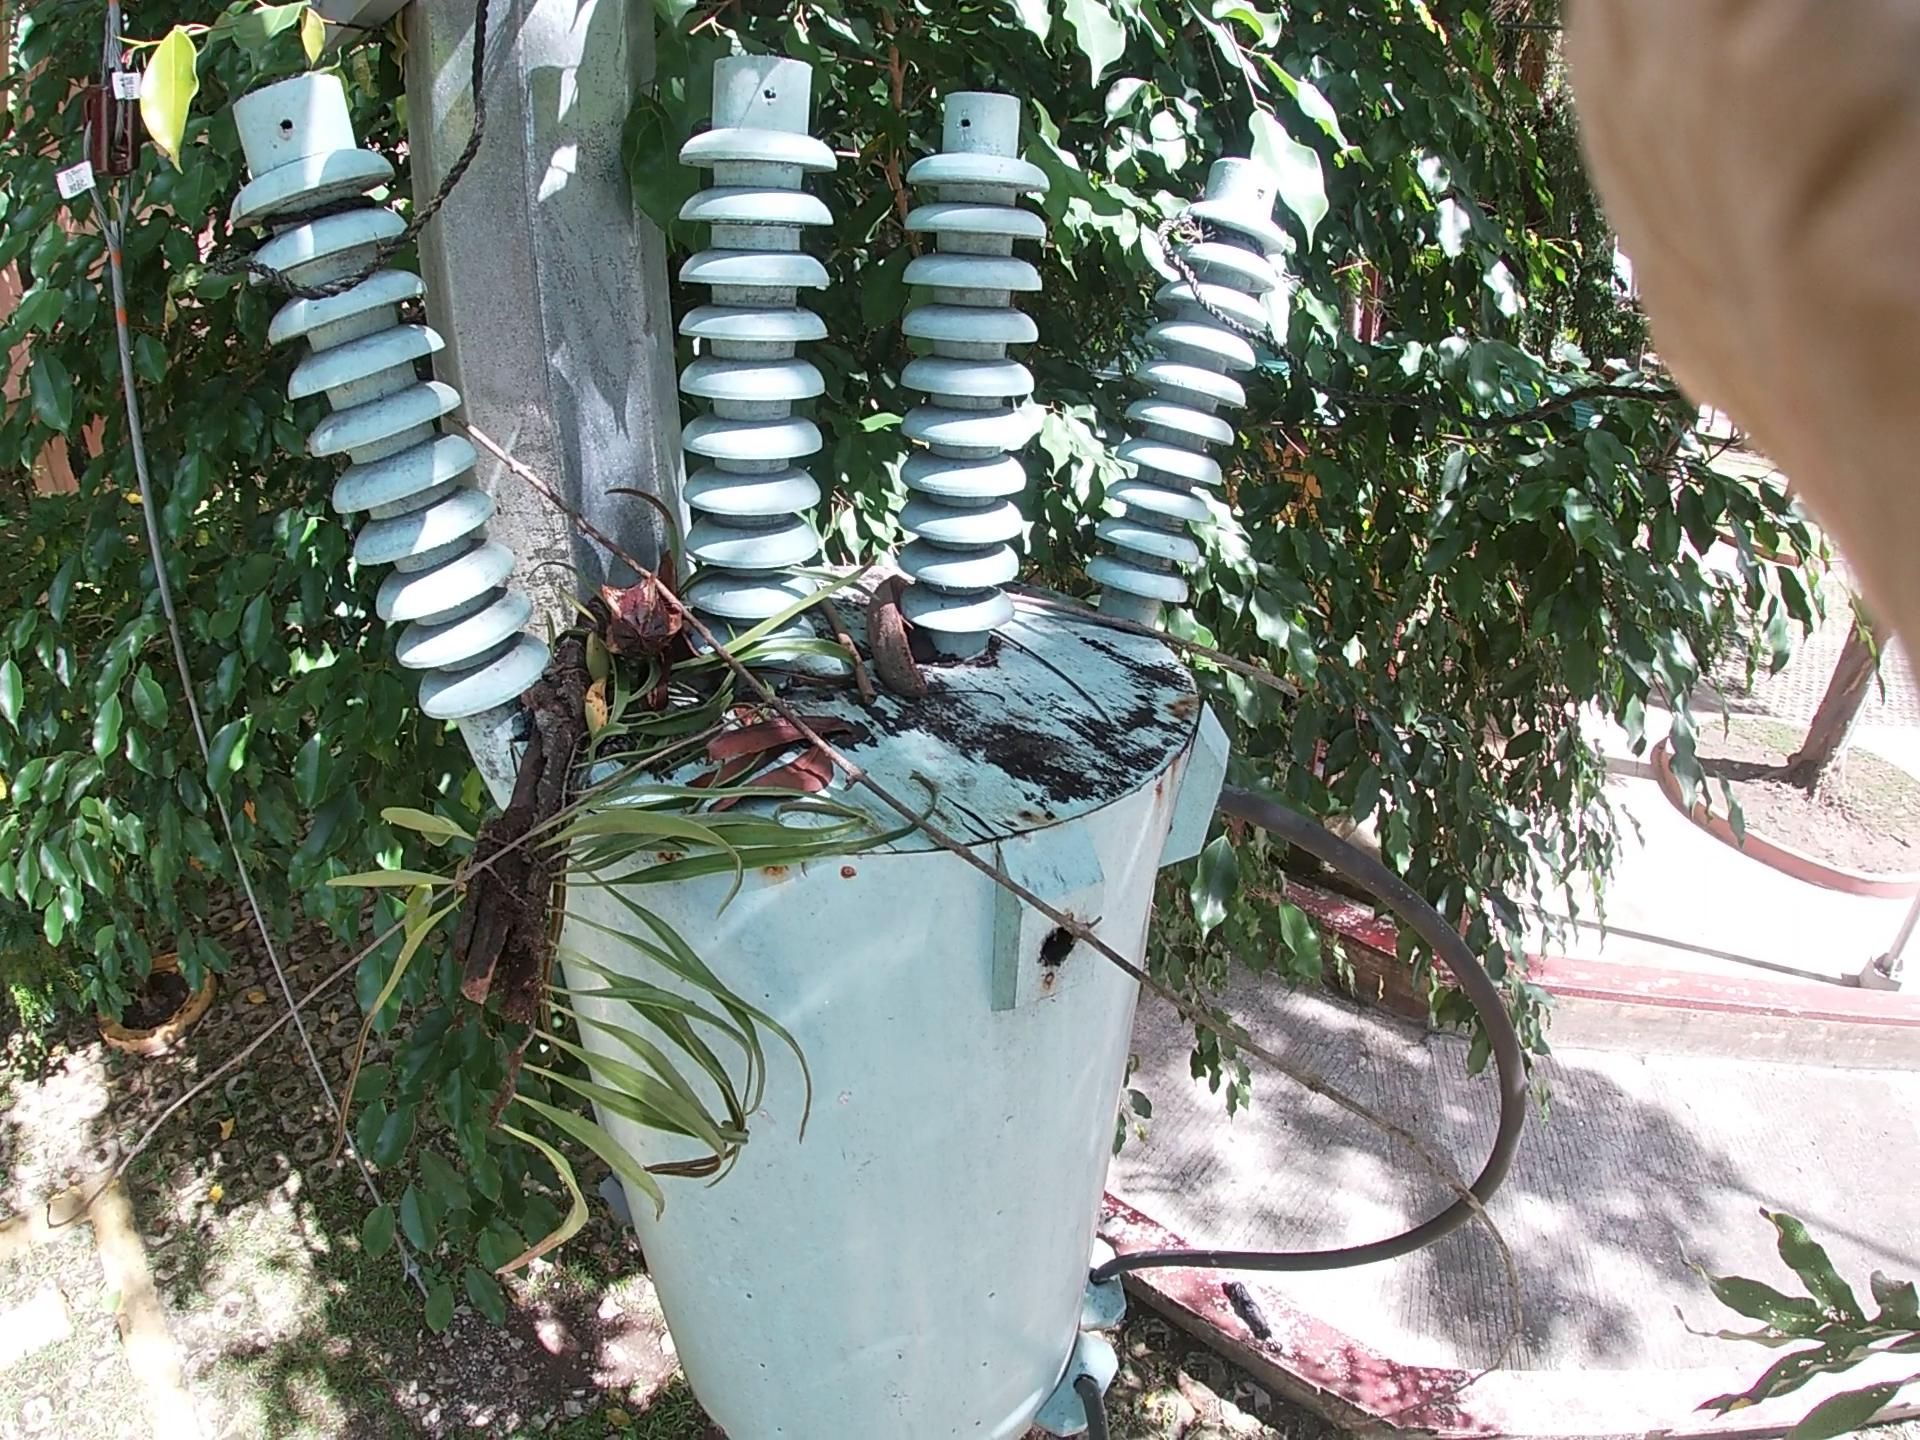branch with leaves: (405, 175, 883, 1243)
leaf: (121, 2, 1417, 750)
mahogany fruit: (869, 531, 980, 743), (590, 557, 741, 700)
tree branch: (461, 389, 1539, 1196), (977, 560, 1346, 709), (803, 563, 918, 749)
